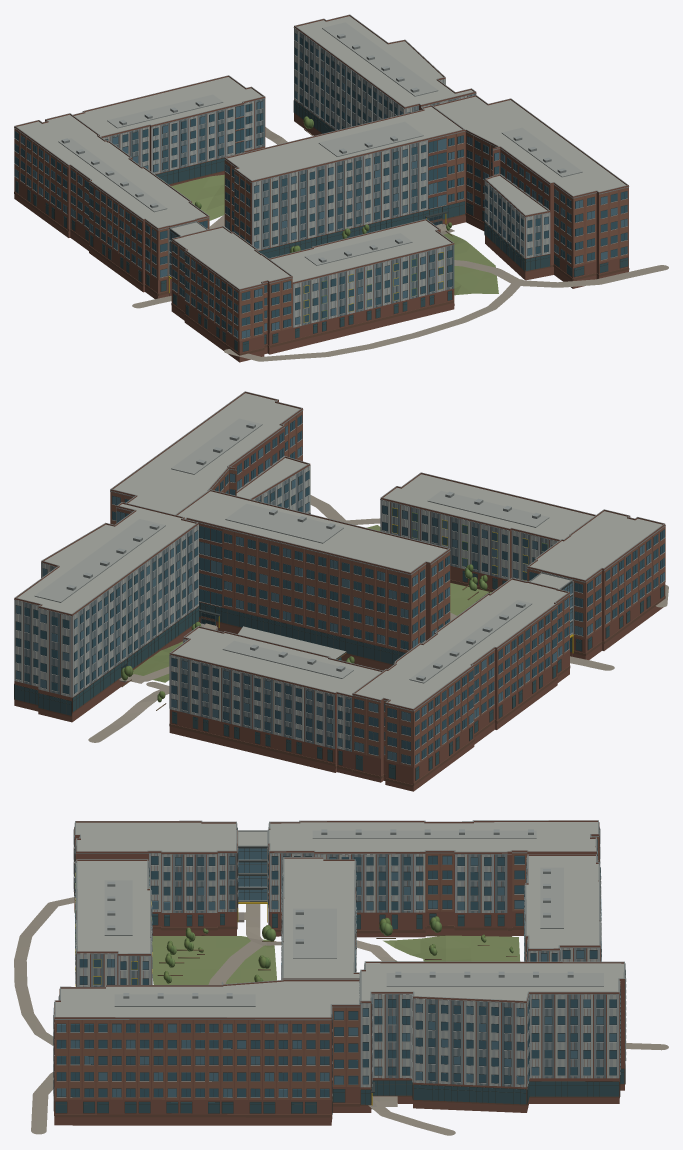
Rendered from site.glb.
The picture shows the model from 3 angles, top to bottom: view 1: azimuth 30°, elevation 25°; view 2: azimuth 150°, elevation 25°; view 3: azimuth 270°, elevation 25°; orthographic projection. The views are drawn at different scales.
Parts seen in each view (by area): view 1: context-oc-cedar, context-oc-yasui, cedar-yasui-courtyards; view 2: context-oc-cedar, context-oc-yasui, cedar-yasui-courtyards, cedar-yasui-trees; view 3: context-oc-cedar, context-oc-yasui, cedar-yasui-courtyards, cedar-yasui-trees.
Boxes of the visible parts, left/top/right/bottom form: context-oc-cedar: left=224, top=14, right=629, bottom=288; context-oc-yasui: left=14, top=75, right=454, bottom=362; cedar-yasui-courtyards: left=132, top=127, right=668, bottom=361; context-oc-cedar: left=14, top=391, right=450, bottom=722; context-oc-yasui: left=169, top=472, right=665, bottom=791; cedar-yasui-courtyards: left=88, top=495, right=668, bottom=742; cedar-yasui-trees: left=121, top=564, right=490, bottom=710; context-oc-cedar: left=53, top=857, right=626, bottom=1125; context-oc-yasui: left=73, top=820, right=601, bottom=986; cedar-yasui-courtyards: left=14, top=897, right=668, bottom=1135; cedar-yasui-trees: left=157, top=916, right=517, bottom=983.
Bounding box in the file's own units: 117 × 24.78 × 128.
